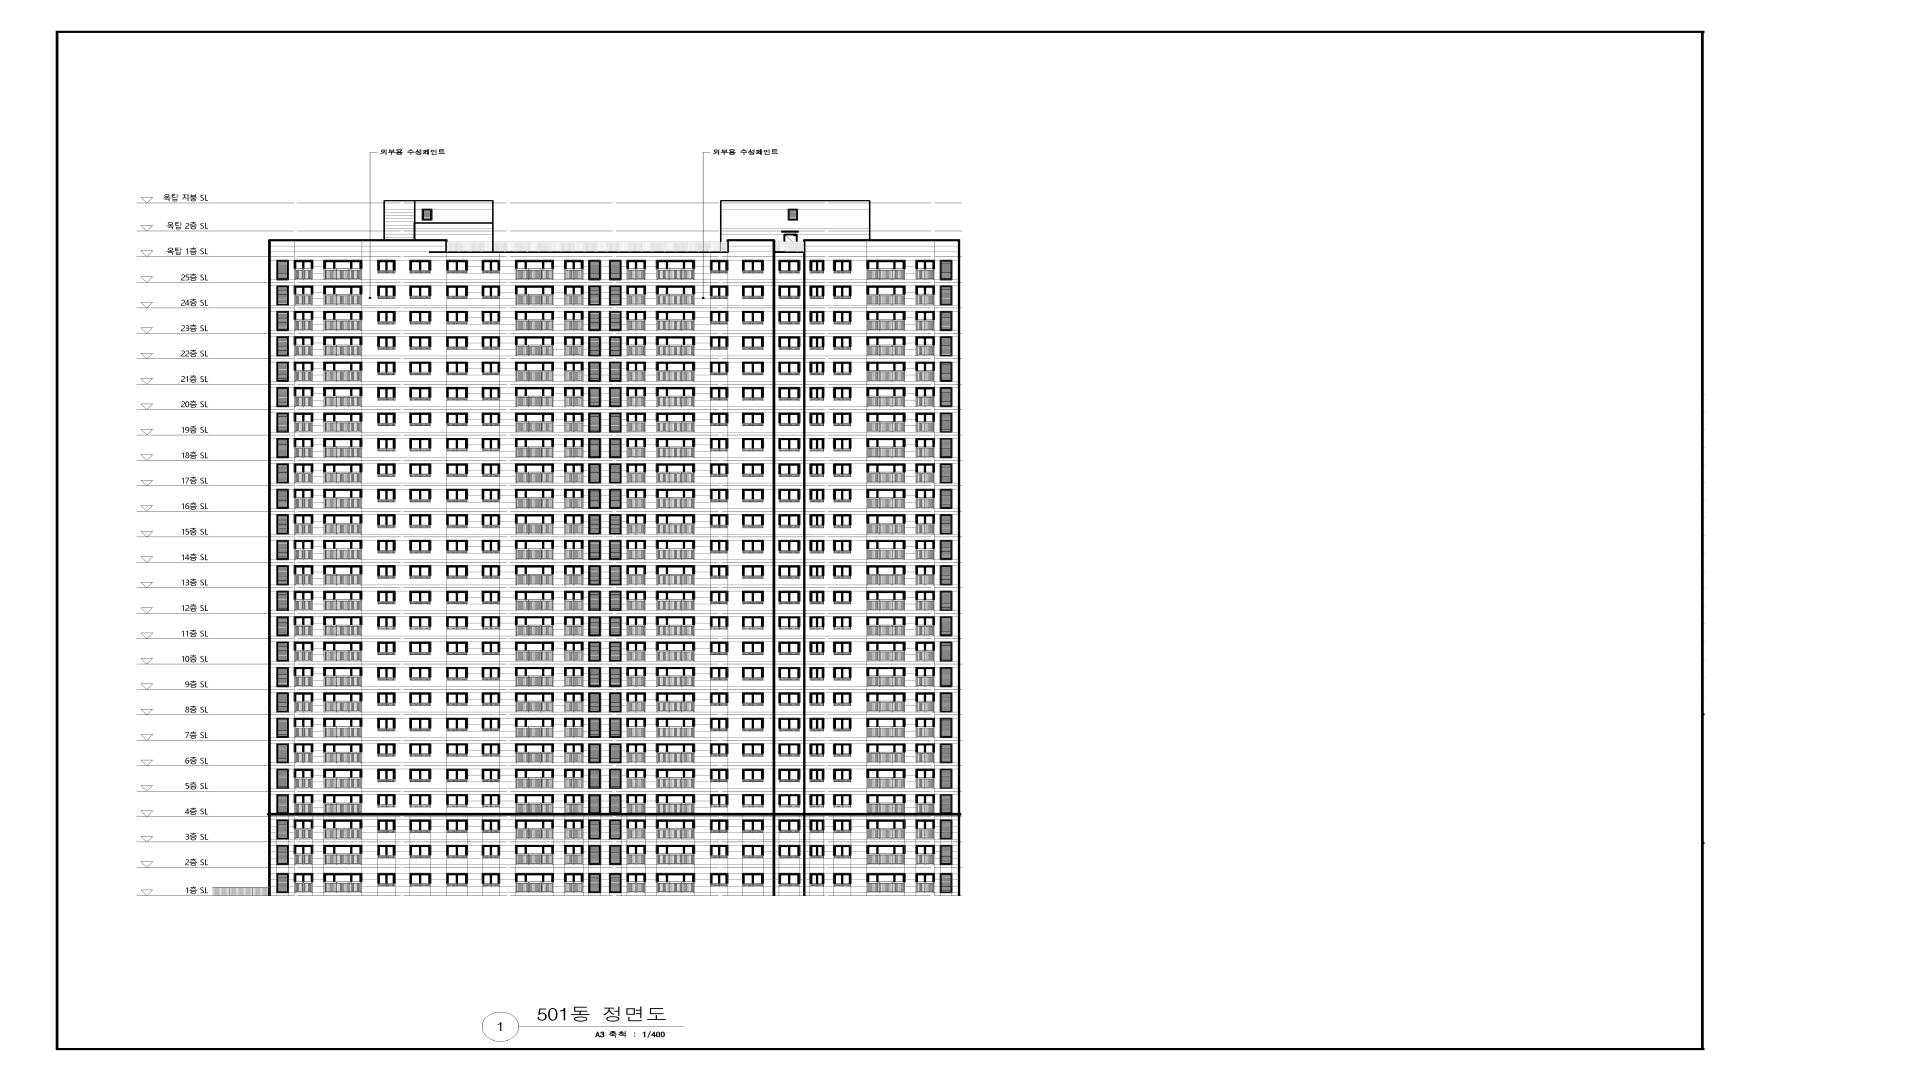door: (783, 233, 798, 253)
wall: (268, 200, 960, 897)
window: (514, 285, 554, 306), (866, 488, 906, 509), (866, 742, 906, 764), (866, 819, 906, 840), (655, 285, 695, 306), (655, 463, 695, 484), (655, 488, 695, 509), (655, 539, 695, 560), (655, 564, 695, 585), (655, 591, 695, 612), (655, 616, 695, 637), (514, 539, 554, 560), (514, 616, 554, 637), (514, 641, 554, 662), (514, 717, 554, 738), (866, 285, 906, 306), (866, 361, 906, 382), (866, 386, 906, 407), (866, 411, 906, 433), (655, 794, 695, 815), (655, 819, 695, 840), (323, 336, 363, 357), (323, 564, 363, 585), (323, 641, 363, 662), (323, 742, 363, 764), (516, 794, 554, 815), (516, 819, 554, 840), (516, 361, 554, 382), (323, 260, 363, 280), (514, 260, 554, 280), (866, 260, 906, 280), (655, 260, 695, 280), (866, 514, 906, 534), (866, 539, 906, 559), (866, 566, 906, 585), (866, 591, 906, 611), (866, 616, 906, 636), (866, 641, 906, 661), (866, 667, 906, 687), (866, 692, 906, 712), (866, 717, 906, 737), (866, 769, 906, 789), (866, 794, 906, 814), (866, 845, 906, 865), (866, 873, 906, 893), (655, 311, 695, 331), (655, 336, 695, 356), (655, 361, 695, 381), (655, 388, 695, 407), (655, 413, 695, 433), (657, 438, 696, 458), (655, 514, 695, 534), (655, 641, 695, 661), (655, 667, 695, 687), (655, 692, 695, 712), (657, 717, 696, 737), (655, 744, 695, 764), (514, 566, 554, 585), (514, 591, 554, 611), (514, 667, 554, 687), (514, 692, 554, 712), (514, 769, 554, 789), (514, 845, 554, 865), (866, 311, 906, 331), (866, 336, 906, 356), (866, 438, 906, 458), (866, 463, 906, 483), (514, 388, 554, 407), (514, 413, 554, 433), (514, 438, 554, 458), (514, 463, 554, 483), (514, 514, 554, 534), (655, 769, 695, 789), (655, 845, 695, 865), (657, 873, 696, 893), (323, 286, 363, 306), (323, 311, 363, 331), (323, 361, 363, 381), (323, 388, 363, 407), (323, 413, 363, 433), (323, 438, 363, 458), (323, 464, 363, 484), (323, 489, 363, 509), (323, 514, 363, 534), (323, 591, 363, 611), (323, 616, 363, 636), (323, 667, 363, 687), (323, 692, 363, 712), (323, 717, 363, 737), (323, 769, 363, 789), (323, 795, 363, 815), (323, 819, 363, 839), (323, 845, 363, 865), (323, 873, 363, 893), (516, 744, 554, 764), (516, 873, 554, 893), (516, 311, 554, 331), (516, 336, 554, 356), (516, 489, 554, 509), (324, 541, 363, 560), (915, 616, 935, 637), (915, 641, 935, 662), (915, 742, 935, 764), (564, 717, 584, 738), (564, 641, 584, 662), (915, 285, 935, 306), (915, 361, 935, 382), (915, 386, 935, 407), (294, 463, 314, 484), (294, 717, 314, 738), (294, 819, 314, 840), (564, 616, 584, 637), (564, 539, 584, 560), (626, 641, 646, 662), (626, 438, 646, 459), (564, 285, 584, 306), (293, 361, 313, 382), (294, 260, 314, 280), (564, 260, 584, 280), (626, 260, 646, 280), (915, 260, 935, 280), (915, 514, 935, 534), (915, 539, 935, 559), (915, 566, 935, 585), (915, 591, 935, 611), (915, 667, 935, 687), (915, 692, 935, 712), (915, 717, 935, 737), (915, 769, 935, 789), (915, 794, 935, 814), (915, 819, 935, 839), (915, 845, 935, 865), (915, 873, 935, 893), (626, 873, 646, 893), (626, 845, 646, 865), (626, 819, 646, 839), (626, 794, 646, 814), (626, 769, 646, 789), (626, 744, 646, 764), (626, 717, 646, 737), (626, 692, 646, 712), (564, 692, 584, 712), (564, 744, 584, 764), (564, 769, 584, 789), (564, 794, 584, 814), (564, 819, 584, 839), (564, 845, 584, 865), (564, 873, 584, 893), (626, 667, 646, 687), (564, 667, 584, 687), (915, 311, 935, 331), (915, 336, 935, 356), (915, 413, 935, 433), (915, 438, 935, 458), (915, 463, 935, 483), (915, 489, 935, 509), (294, 413, 314, 433), (294, 438, 314, 458), (294, 489, 314, 509), (294, 514, 314, 534), (294, 541, 314, 560), (294, 566, 314, 585), (294, 591, 314, 611), (294, 616, 314, 636), (294, 642, 314, 662), (294, 667, 314, 687), (293, 692, 313, 712), (294, 744, 314, 764), (294, 769, 314, 789), (294, 794, 314, 814), (294, 845, 314, 865), (294, 873, 314, 893), (564, 591, 584, 611), (564, 566, 584, 585), (564, 514, 584, 534), (564, 489, 584, 509), (626, 617, 646, 637), (626, 591, 646, 611), (626, 564, 646, 584), (626, 539, 646, 559), (626, 514, 646, 534), (626, 489, 646, 509), (626, 285, 646, 305), (626, 311, 646, 331), (626, 336, 646, 356), (626, 361, 646, 381), (626, 386, 646, 406), (626, 413, 646, 433), (626, 463, 646, 483), (564, 311, 584, 331), (564, 336, 584, 356), (564, 363, 584, 382), (564, 386, 584, 406), (564, 413, 584, 433), (564, 438, 584, 458), (564, 463, 584, 483), (294, 285, 314, 305), (294, 311, 314, 331), (293, 336, 313, 356), (293, 388, 313, 407), (409, 285, 431, 299), (410, 361, 433, 376), (409, 386, 431, 401), (409, 438, 431, 452), (409, 463, 431, 477), (446, 285, 468, 299), (446, 310, 468, 324), (446, 386, 468, 401), (446, 463, 468, 477), (409, 539, 431, 554), (409, 616, 431, 630), (410, 717, 433, 732), (446, 717, 468, 732), (778, 539, 800, 554), (778, 616, 800, 630), (741, 463, 764, 477), (741, 539, 764, 554), (778, 285, 800, 299), (778, 386, 800, 401), (742, 285, 765, 299), (742, 386, 765, 401), (446, 616, 468, 630), (446, 539, 468, 554), (446, 591, 468, 605), (446, 819, 468, 833), (409, 794, 431, 808), (409, 819, 431, 833), (742, 819, 765, 833), (778, 794, 800, 808), (778, 819, 800, 833), (409, 260, 431, 273), (446, 260, 468, 273), (742, 260, 765, 273), (778, 260, 800, 273), (409, 311, 431, 324), (409, 336, 431, 349), (409, 413, 431, 426), (409, 489, 431, 502), (446, 336, 468, 349), (446, 361, 468, 375), (446, 413, 468, 426), (446, 438, 468, 451), (446, 489, 468, 502), (409, 514, 431, 527), (409, 566, 431, 579), (409, 591, 431, 604), (410, 642, 433, 655), (409, 667, 431, 680), (409, 692, 431, 705), (446, 692, 468, 705), (446, 667, 468, 680), (778, 464, 800, 477), (778, 489, 800, 502), (778, 514, 800, 527), (778, 566, 800, 579), (778, 591, 800, 604), (778, 642, 800, 655), (778, 667, 800, 680), (742, 667, 765, 680), (742, 642, 765, 655), (742, 489, 765, 502), (742, 514, 765, 527), (741, 566, 764, 579), (742, 591, 765, 604), (741, 617, 764, 630), (778, 311, 800, 324), (778, 336, 800, 349), (778, 361, 800, 375), (778, 413, 800, 426), (778, 438, 800, 451), (742, 311, 765, 324), (742, 361, 765, 375), (742, 438, 765, 451), (446, 642, 468, 655), (446, 514, 468, 527), (446, 566, 468, 579), (446, 744, 468, 757), (446, 769, 468, 782), (446, 794, 468, 807), (446, 845, 468, 858), (446, 873, 468, 886), (409, 744, 431, 757), (409, 769, 431, 782), (409, 845, 431, 858), (409, 873, 431, 886), (778, 873, 800, 886), (742, 873, 765, 886), (742, 845, 765, 858), (741, 794, 764, 807), (742, 769, 765, 782), (741, 744, 764, 757), (742, 717, 765, 731), (742, 692, 765, 705), (778, 692, 800, 705), (778, 717, 800, 731), (778, 744, 800, 757), (778, 769, 800, 782), (778, 845, 800, 858), (832, 361, 852, 376), (832, 591, 852, 605), (709, 463, 729, 477), (709, 564, 729, 579), (481, 641, 501, 655), (832, 717, 852, 732), (832, 819, 852, 833), (709, 692, 729, 707), (709, 717, 729, 732), (276, 260, 289, 281), (588, 260, 601, 281), (276, 873, 289, 894), (609, 873, 622, 894), (588, 873, 601, 894), (609, 844, 622, 865), (588, 819, 601, 840), (609, 819, 622, 840), (609, 794, 622, 815), (588, 794, 601, 815), (588, 742, 601, 764), (588, 717, 601, 738), (609, 717, 622, 738), (588, 692, 601, 713), (588, 667, 601, 688), (588, 641, 601, 662), (588, 616, 601, 637), (588, 591, 601, 612), (588, 564, 601, 585), (588, 539, 601, 560), (588, 488, 601, 509), (609, 539, 622, 560), (609, 591, 622, 612), (609, 616, 622, 637), (609, 641, 622, 662), (276, 285, 289, 306), (276, 336, 289, 357), (276, 361, 289, 382), (276, 591, 289, 612), (276, 641, 289, 662), (276, 742, 289, 764), (276, 794, 289, 815), (940, 819, 953, 840), (742, 336, 764, 349), (742, 413, 764, 426), (276, 819, 289, 840), (609, 361, 622, 382), (609, 463, 622, 484), (588, 285, 601, 306), (588, 361, 601, 382), (588, 386, 601, 407), (588, 438, 601, 459), (588, 463, 601, 484), (940, 285, 953, 306), (939, 361, 952, 382), (939, 386, 952, 407), (940, 564, 953, 585), (940, 591, 953, 612), (940, 616, 953, 637), (940, 641, 953, 662), (940, 717, 953, 738), (481, 873, 500, 887), (833, 285, 852, 299), (833, 386, 852, 401), (833, 463, 852, 477), (709, 285, 728, 299), (711, 310, 729, 324), (709, 488, 728, 502), (481, 463, 500, 477), (377, 361, 396, 376), (377, 386, 396, 401), (377, 438, 396, 452), (377, 463, 396, 477), (377, 539, 396, 554), (481, 564, 500, 579), (481, 691, 500, 705), (481, 717, 500, 732), (481, 794, 500, 808), (377, 616, 396, 630), (377, 641, 396, 655), (377, 717, 396, 732), (481, 361, 500, 376), (833, 692, 852, 707), (709, 794, 728, 808), (709, 819, 728, 833), (709, 260, 729, 273), (588, 845, 601, 865), (588, 769, 601, 789), (609, 769, 622, 789), (609, 744, 622, 764), (609, 692, 622, 712), (609, 667, 622, 687), (588, 514, 601, 534), (609, 514, 622, 534), (609, 566, 622, 585), (481, 820, 501, 833), (481, 845, 501, 858), (832, 311, 852, 324), (832, 336, 852, 349), (832, 616, 852, 629), (709, 388, 729, 401), (709, 413, 729, 426), (709, 438, 729, 451), (709, 514, 729, 527), (709, 541, 729, 554), (709, 591, 729, 604), (709, 616, 729, 629), (832, 642, 852, 655), (832, 667, 852, 680), (277, 413, 290, 433), (276, 489, 289, 509), (276, 514, 289, 534), (276, 566, 289, 585), (276, 692, 289, 712), (276, 769, 289, 789), (940, 845, 953, 865), (481, 617, 501, 630), (481, 667, 501, 680), (481, 769, 501, 782), (609, 311, 622, 331), (609, 336, 622, 356), (609, 413, 622, 433), (588, 311, 601, 331), (588, 336, 601, 356), (588, 413, 601, 433), (939, 413, 952, 433), (940, 489, 953, 509), (940, 514, 953, 534), (940, 667, 953, 687), (940, 692, 953, 712), (481, 413, 501, 426), (832, 873, 852, 886), (709, 667, 729, 680), (709, 744, 729, 757), (709, 769, 729, 782), (709, 845, 729, 858), (609, 260, 621, 281), (940, 260, 952, 281), (609, 285, 621, 306), (277, 386, 289, 407), (277, 438, 289, 459), (277, 463, 289, 484), (277, 539, 289, 560), (277, 616, 289, 637), (277, 717, 289, 738), (940, 794, 952, 815), (940, 873, 952, 894), (609, 386, 621, 407), (609, 438, 621, 459), (940, 310, 952, 331), (940, 336, 952, 357), (940, 438, 952, 459), (940, 463, 952, 484), (940, 539, 952, 560), (940, 769, 952, 790), (377, 260, 396, 273), (481, 260, 500, 273), (833, 260, 852, 273), (377, 819, 396, 832), (377, 845, 396, 858), (377, 873, 396, 886), (833, 413, 852, 426), (833, 438, 852, 451), (833, 489, 852, 502), (833, 514, 852, 527), (833, 541, 852, 554), (833, 566, 852, 579), (709, 336, 728, 349), (709, 361, 728, 375), (481, 439, 500, 452), (481, 489, 500, 502), (481, 514, 500, 527), (481, 541, 500, 554), (377, 286, 396, 299), (377, 311, 396, 324), (377, 336, 396, 349), (377, 413, 396, 426), (377, 489, 396, 502), (377, 514, 396, 527), (377, 566, 396, 579), (377, 591, 396, 604), (481, 591, 500, 604), (481, 744, 500, 757), (377, 667, 396, 680), (377, 692, 396, 705), (377, 744, 396, 757), (377, 769, 396, 782), (377, 794, 396, 807), (481, 286, 500, 299), (481, 311, 500, 324), (481, 336, 500, 349), (481, 388, 500, 401), (833, 744, 852, 757), (833, 769, 852, 782), (833, 795, 852, 808), (833, 845, 852, 858), (709, 642, 728, 655), (711, 873, 729, 886), (277, 845, 289, 865), (609, 489, 621, 509), (277, 311, 289, 331), (277, 667, 289, 687), (940, 744, 952, 764), (808, 616, 824, 630), (808, 641, 824, 655), (808, 717, 824, 732), (810, 285, 824, 299), (810, 361, 824, 376), (810, 386, 824, 401), (810, 463, 824, 477), (810, 794, 824, 808), (808, 489, 824, 502), (808, 541, 824, 554), (808, 744, 824, 757), (810, 260, 824, 273), (810, 311, 824, 324), (810, 336, 824, 349), (810, 413, 824, 426), (810, 438, 824, 451), (810, 514, 824, 527), (810, 566, 824, 579), (810, 591, 824, 604), (810, 667, 824, 680), (810, 692, 824, 705), (810, 769, 824, 782), (810, 820, 824, 833), (810, 845, 824, 858), (810, 873, 824, 886), (787, 208, 798, 220), (422, 208, 433, 220)
